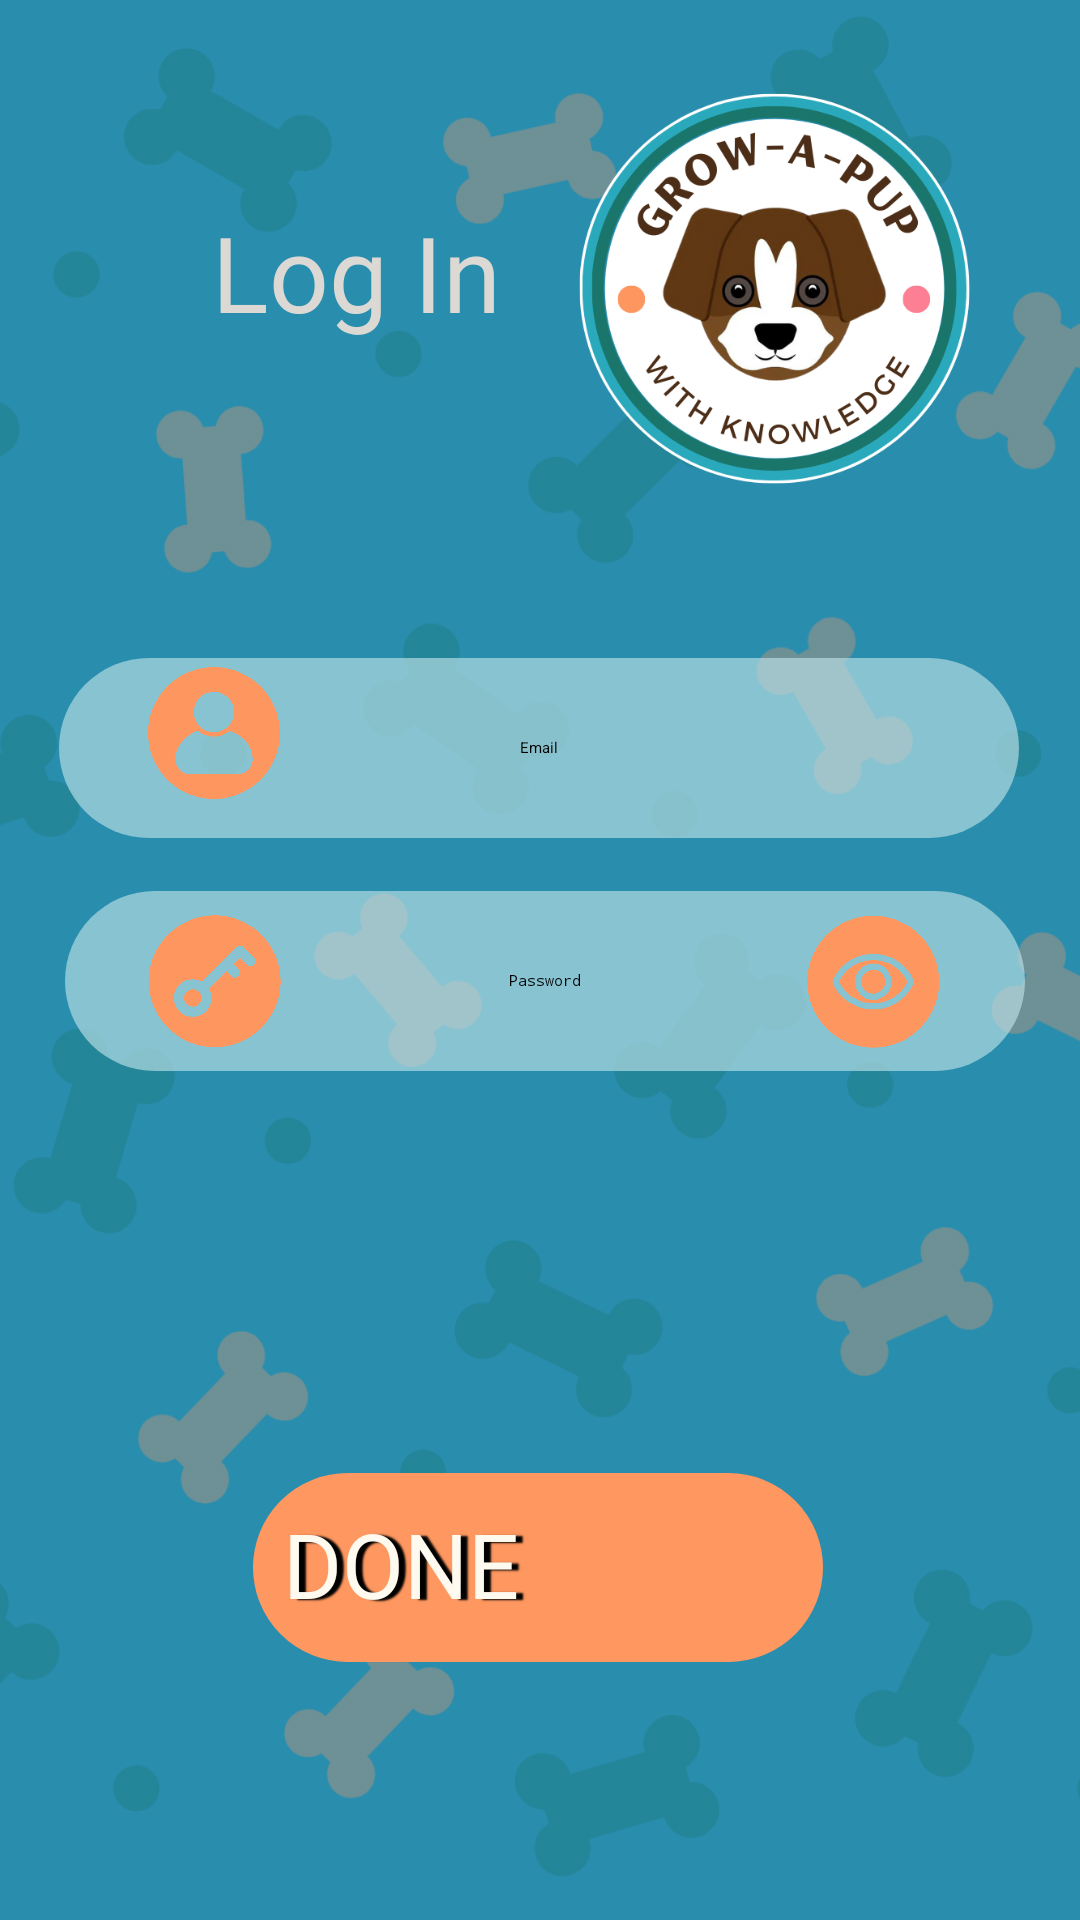

Point at icon controls on the screen. Image size 1080 x 1920, points as (x,y).
usernameicon: (214,733)
visibleicon: (873,982)
